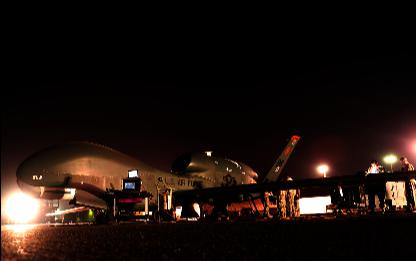P3: (15, 134, 415, 222)
